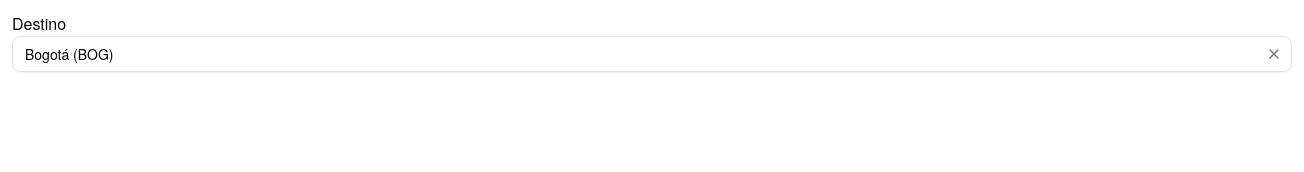
it: AirportCombobox del panel › es un filtro opcional: borrar el texto o pulsar la «x» lo quita
Click the button named "Quitar filtro".
click(1274, 54)  # box [1264,44,1284,64]
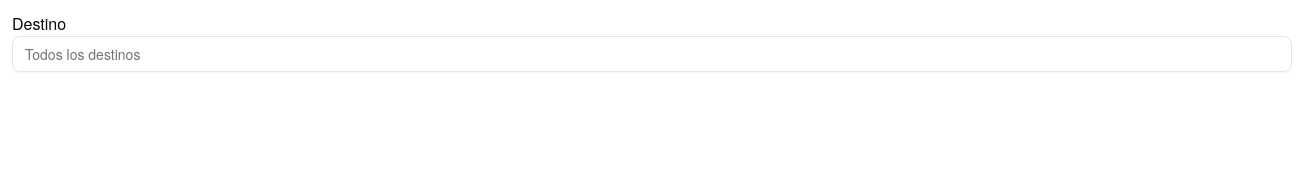
expect the dropdown is empty: met, box [12,36,1292,72]
